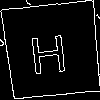H: (26, 25, 69, 76)
